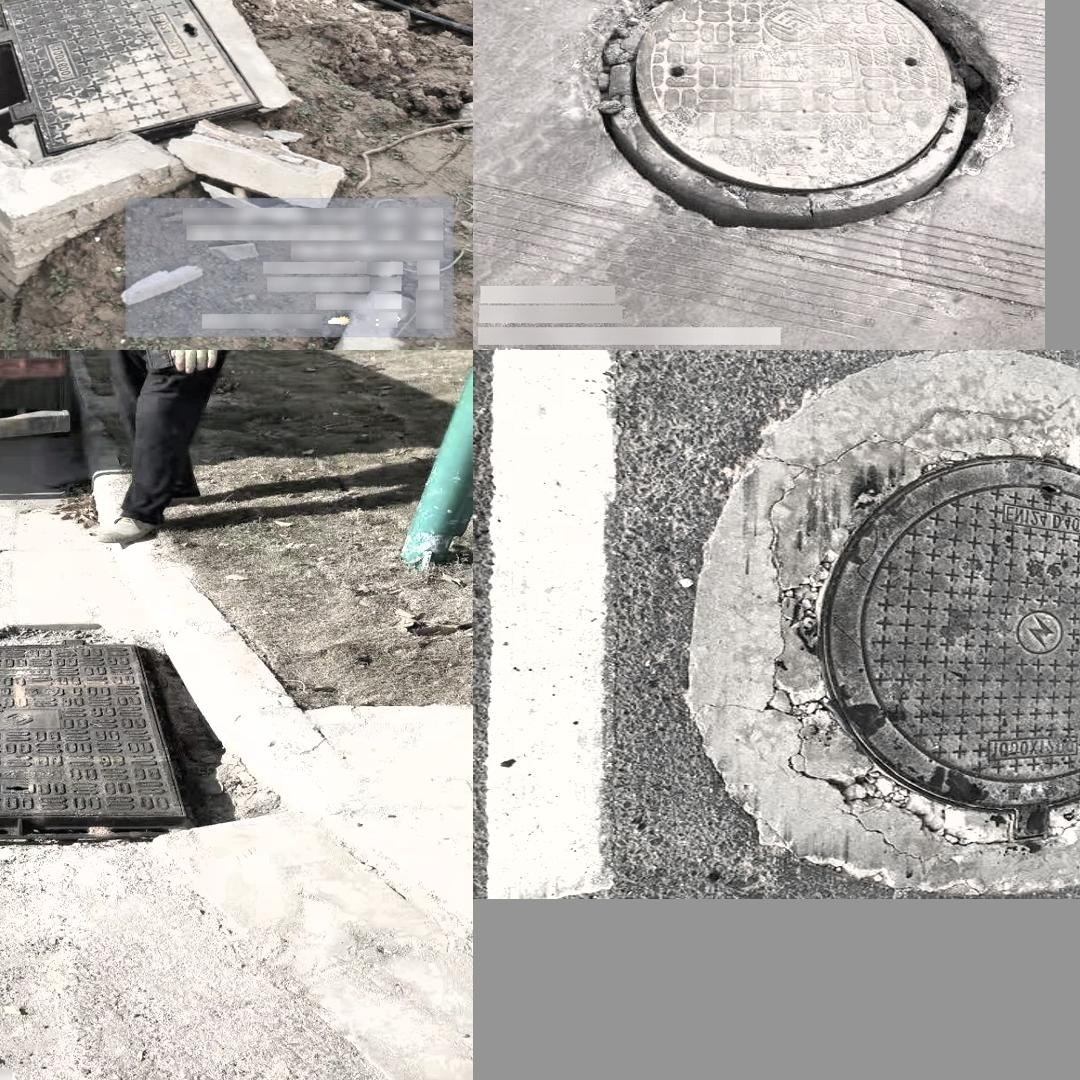circle: (689, 365, 1080, 888), (587, 0, 996, 236), (0, 0, 328, 200), (0, 633, 242, 857)
